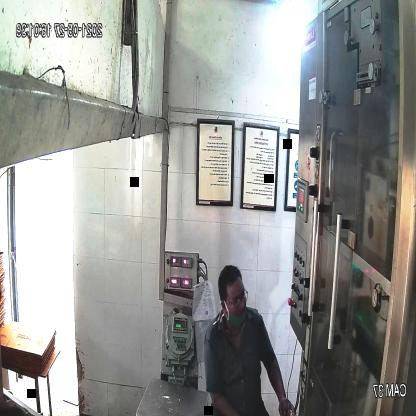goggles: (218, 286, 252, 311)
